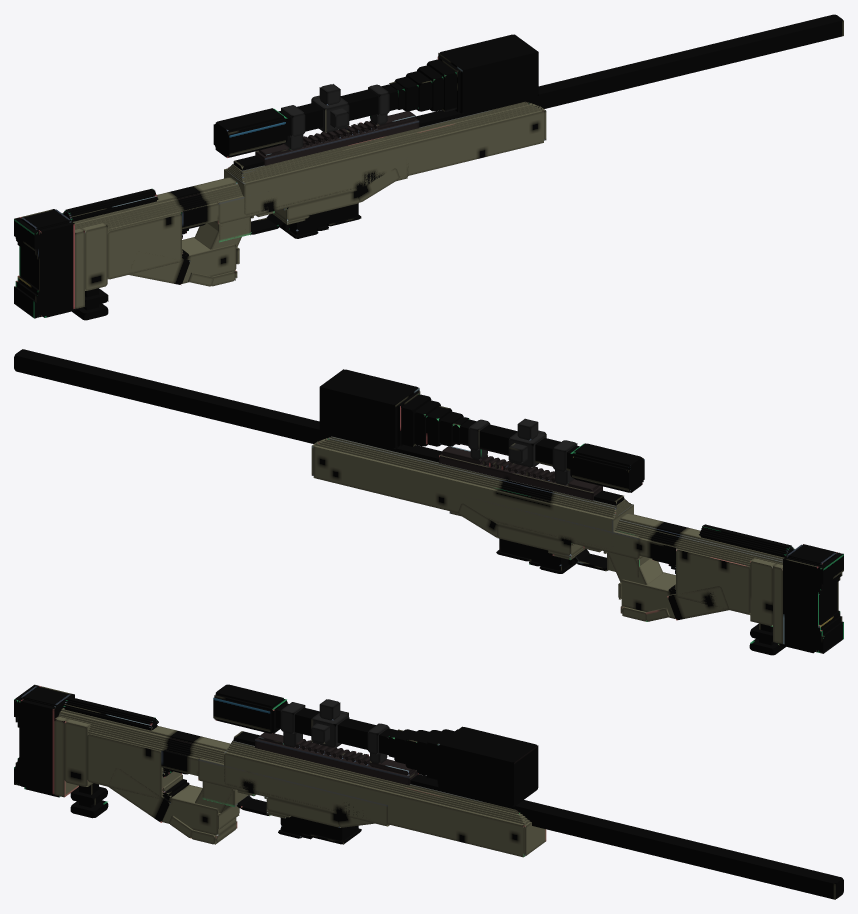
3 views of the same model, one above another, from view 1: azimuth 30°, elevation 25°; view 2: azimuth 150°, elevation 25°; view 3: azimuth 330°, elevation 25° (orthographic).
Visible parts, largest first — view 1: cube; view 2: cube; view 3: cube.
Part boxes in pixels (<box>): cube: <box>14,14,843,320</box>; cube: <box>14,349,843,655</box>; cube: <box>14,684,843,899</box>.
Size of the model in its own units: 2.87 by 0.5656 by 0.1484.
